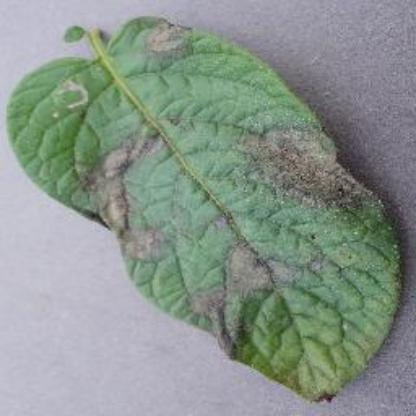Late-Blight: (16, 13, 392, 385)
